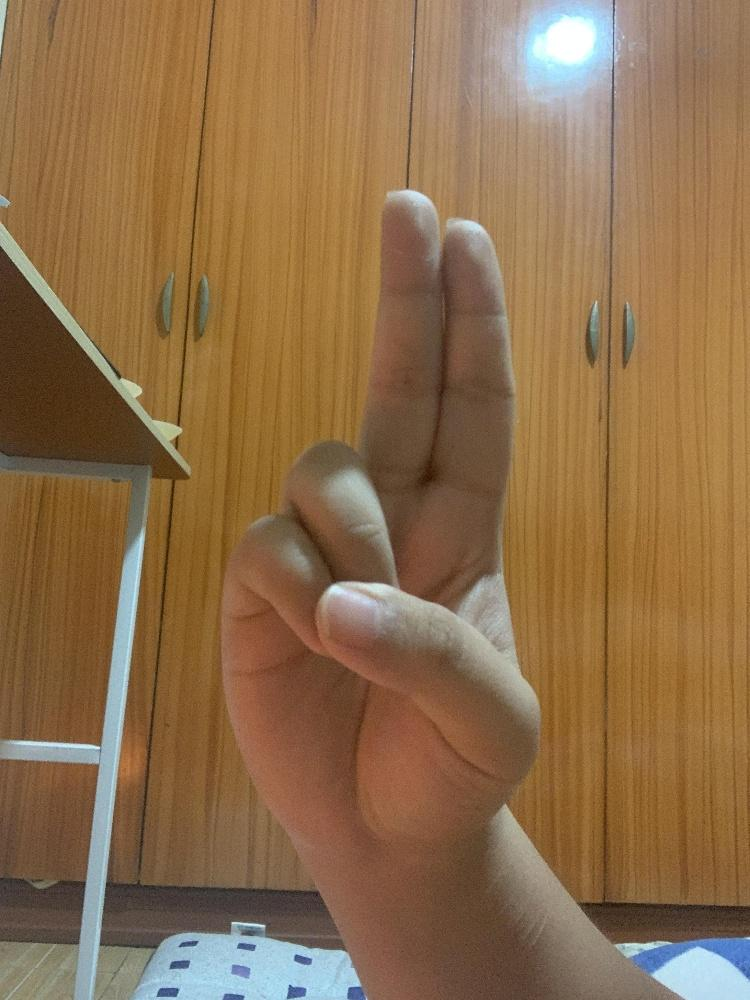u: (214, 185, 544, 847)
